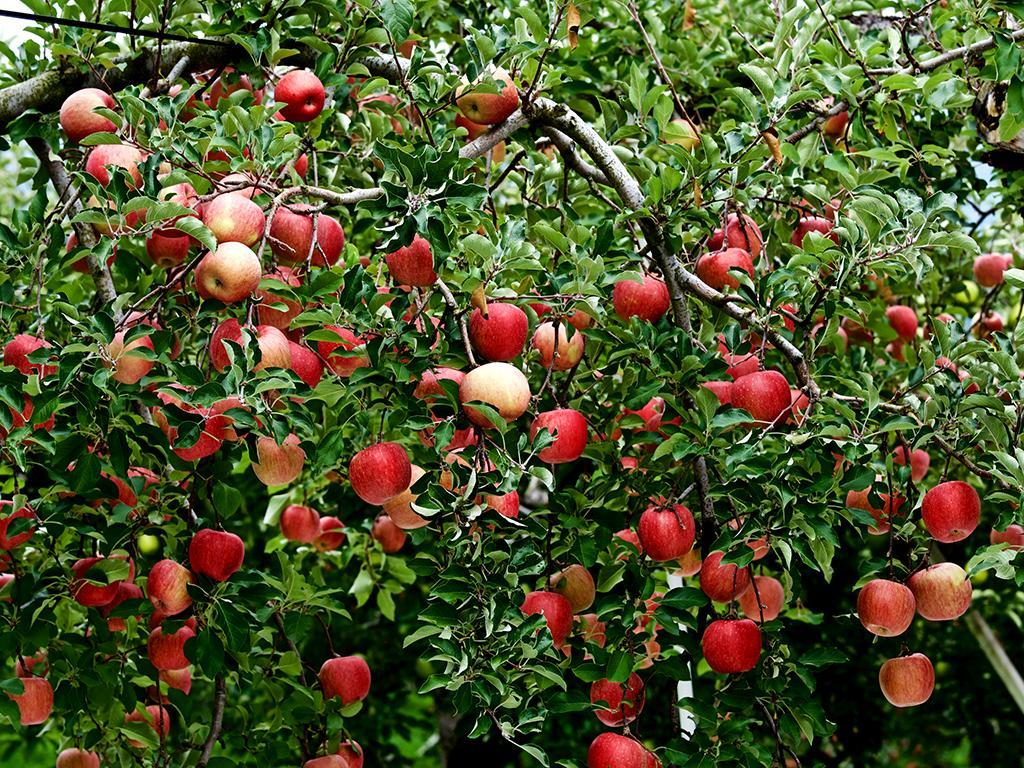apple: (253, 325, 326, 388), (458, 361, 529, 421), (464, 298, 527, 363), (195, 240, 260, 303), (920, 479, 982, 544), (905, 560, 971, 621), (732, 369, 793, 432), (348, 441, 409, 503), (700, 613, 760, 674), (854, 578, 915, 637), (58, 86, 120, 144), (198, 192, 262, 247), (636, 499, 693, 559), (528, 408, 589, 462), (878, 651, 932, 711), (272, 65, 327, 123), (271, 68, 327, 123), (187, 526, 244, 580), (610, 268, 669, 320), (102, 326, 154, 385), (700, 549, 755, 603), (264, 204, 315, 262), (529, 317, 582, 371), (82, 143, 143, 189), (316, 654, 371, 705), (453, 82, 518, 125), (387, 234, 439, 285), (143, 625, 196, 675), (146, 558, 191, 614), (277, 503, 333, 546), (3, 676, 51, 723), (144, 225, 189, 266), (369, 514, 407, 554), (821, 105, 848, 139)
